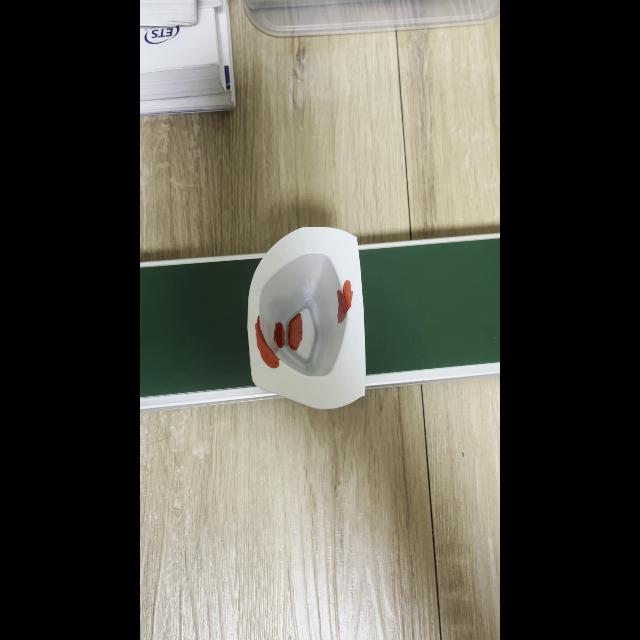dirty: (248, 243, 364, 391)
